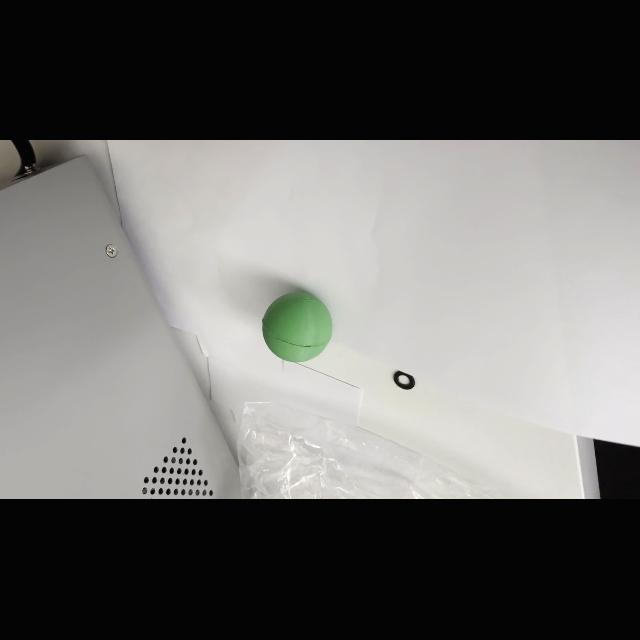objects: (258, 288, 336, 368)
